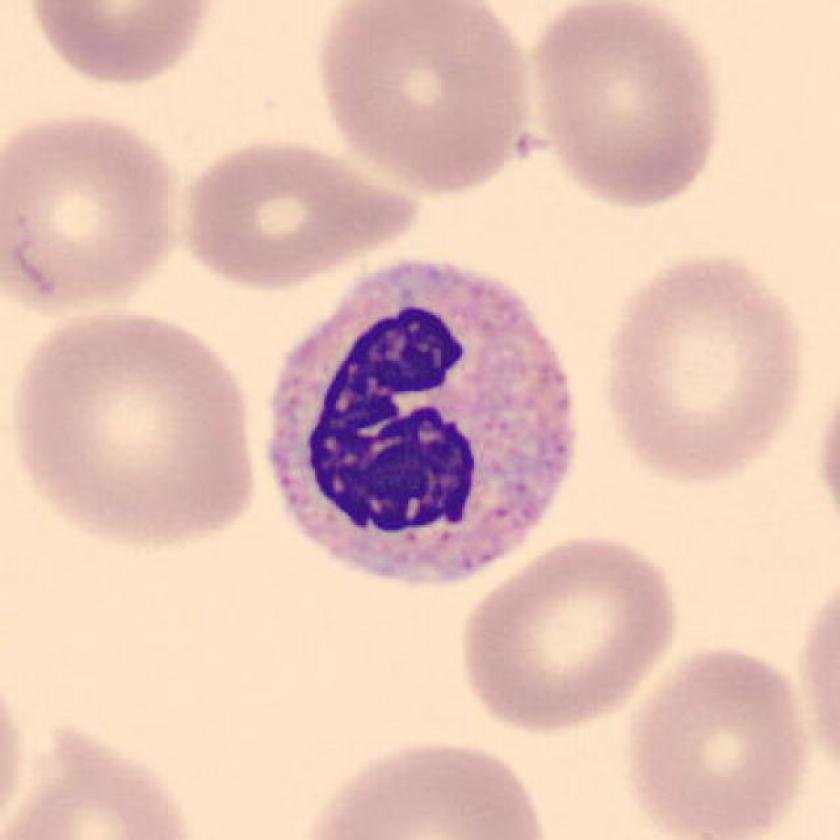neutrophil: (274, 262, 573, 575)
